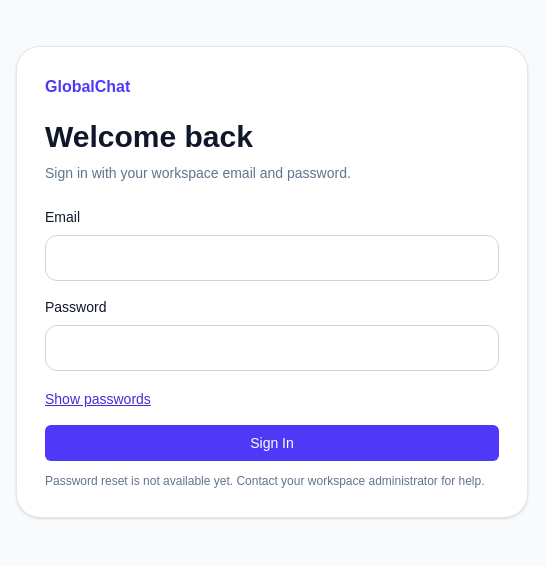
Test case: shows a generic wrong-password error without creating a session
Click the field labelled "Email" at (272,258), box [45, 235, 499, 281]
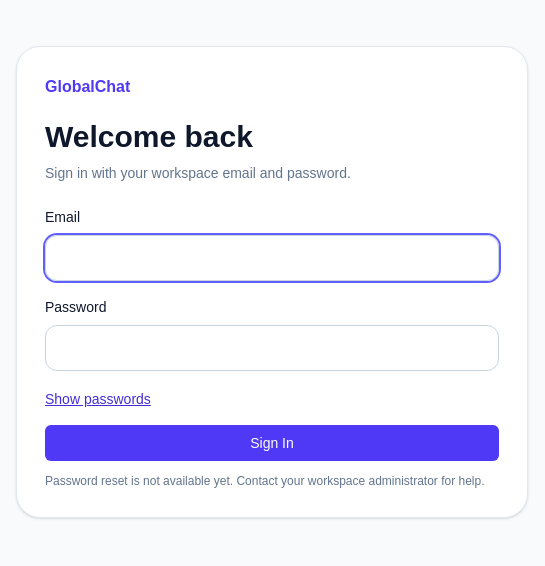
Type keys "owner@example.test"
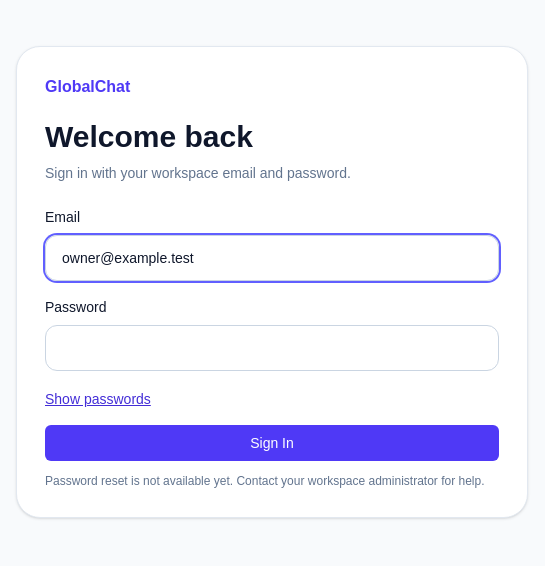
Click the password field labelled "Password" at (272,348), box [45, 325, 499, 371]
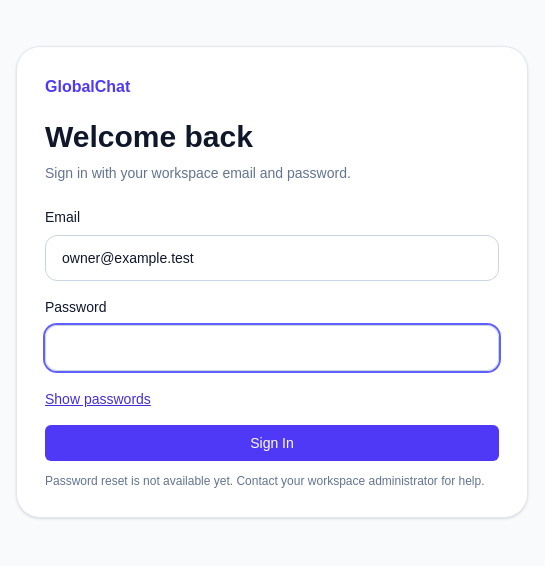
Type keys "Wrong password"
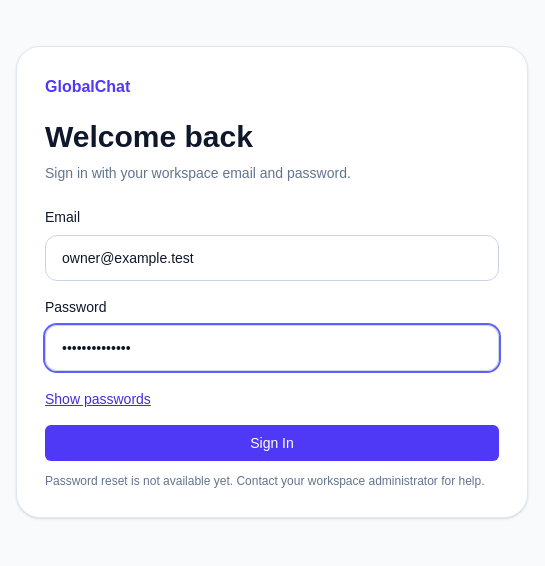
Click the button "Sign In" at (272,443), box [45, 425, 499, 461]
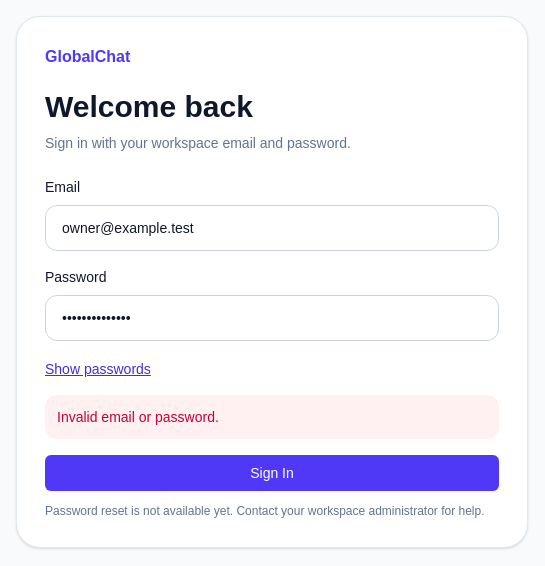
Check: the message reads "Invalid email or password.", box [57, 409, 219, 425]
